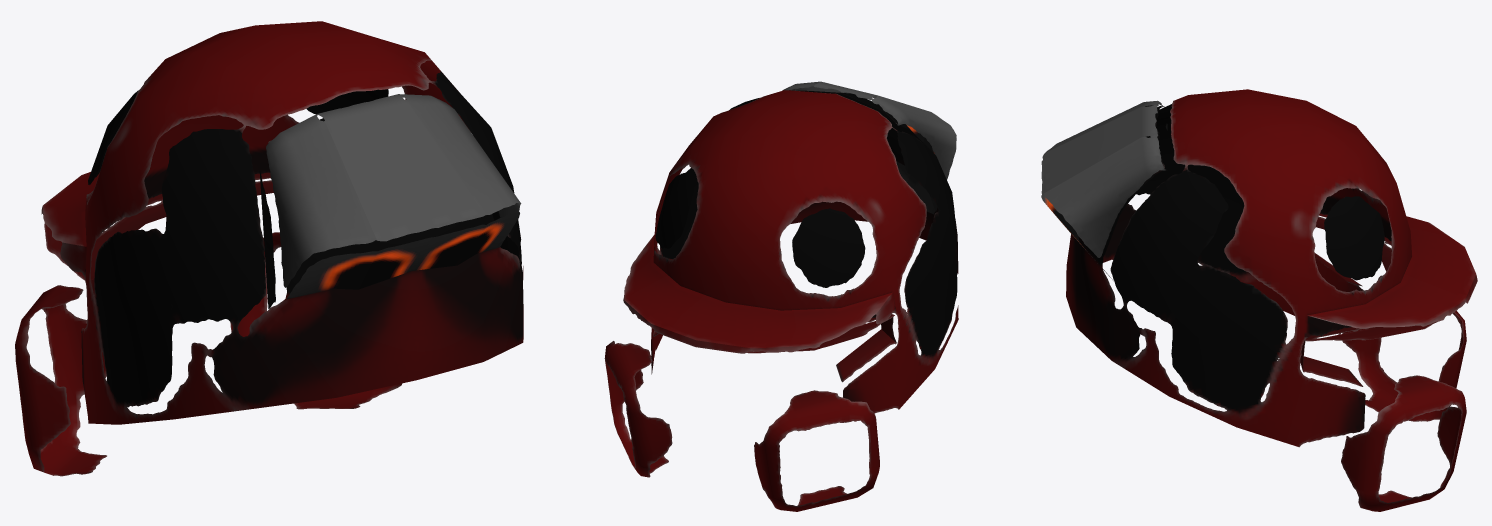
File: IG_Helmat_SBossFire_ResElec.fbx
The picture shows the model from 3 angles, left to right: view 1: azimuth 30°, elevation 25°; view 2: azimuth 150°, elevation 25°; view 3: azimuth 270°, elevation 25°; orthographic projection. The views are drawn at different scales.
Parts seen in each view (by area): view 1: Boss_Horsemen_R_Head; view 2: Boss_Horsemen_R_Head; view 3: Boss_Horsemen_R_Head.
Boxes of the visible parts, x1,y1,x2,y2 form: Boss_Horsemen_R_Head: (15, 21, 523, 476); Boss_Horsemen_R_Head: (604, 81, 958, 511); Boss_Horsemen_R_Head: (1041, 89, 1477, 511).
Size of the model in its own units: 0.8017 by 0.7966 by 0.8582.
